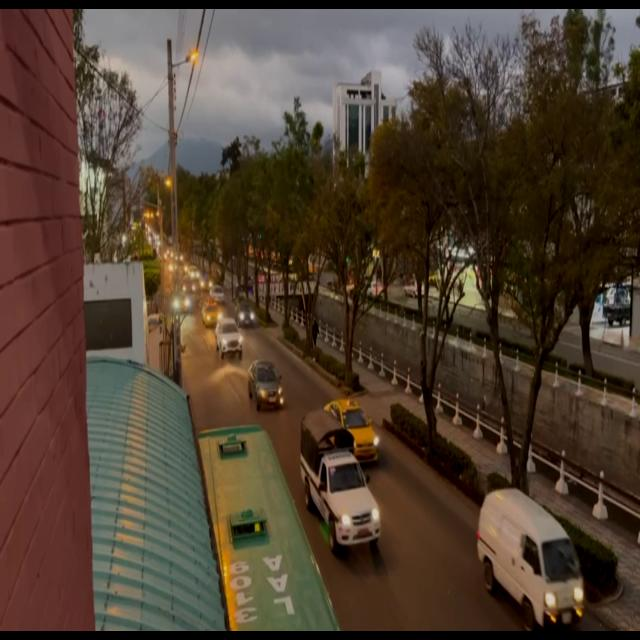BUS: (202, 428, 342, 634)
CMT: (301, 445, 384, 550)
SED: (323, 398, 380, 460), (252, 362, 284, 409), (203, 302, 221, 328)
SUV: (482, 498, 586, 634), (215, 321, 241, 362)
